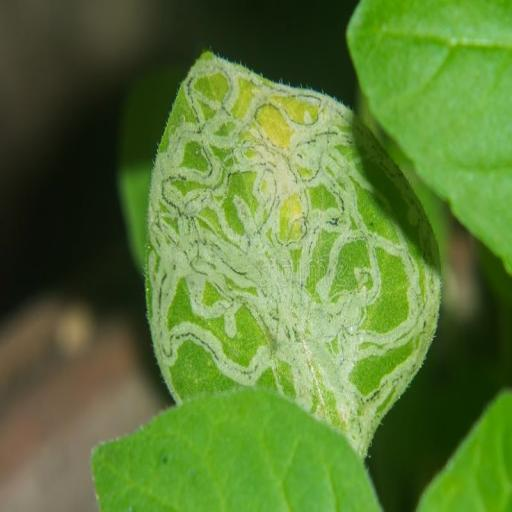Leaf Miner: (139, 45, 445, 467)
